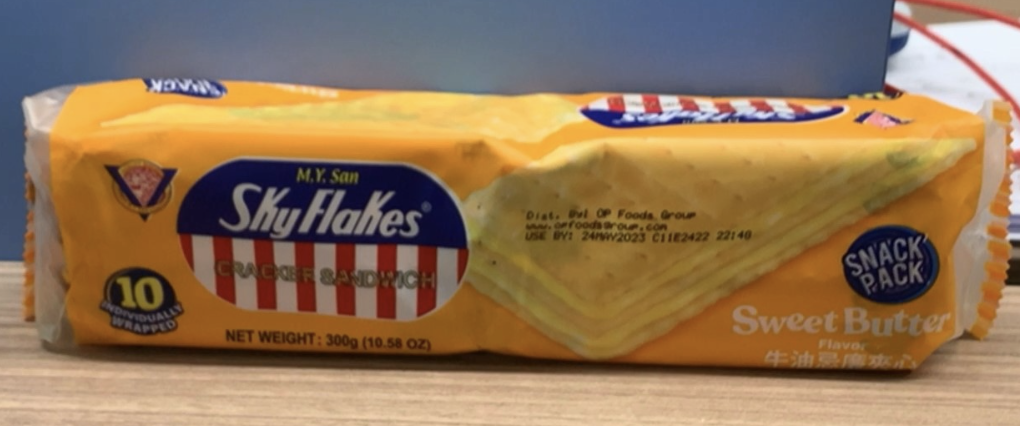crackers_450g: (77, 97, 946, 358)
